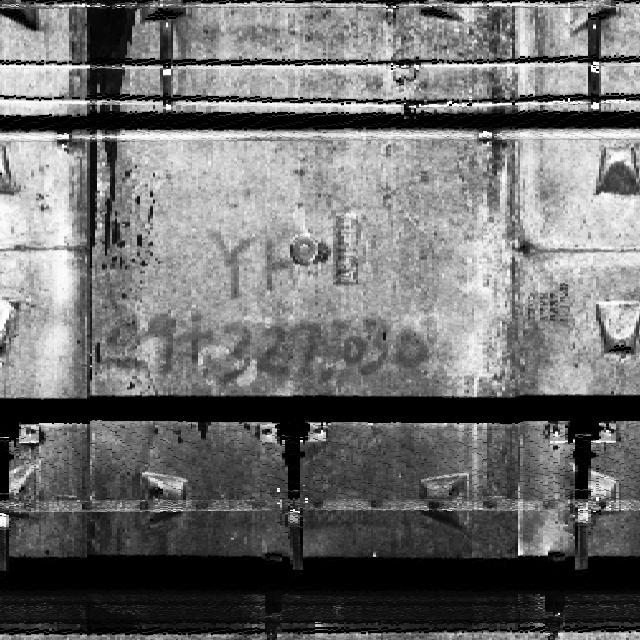leakage: (52, 0, 145, 228)
